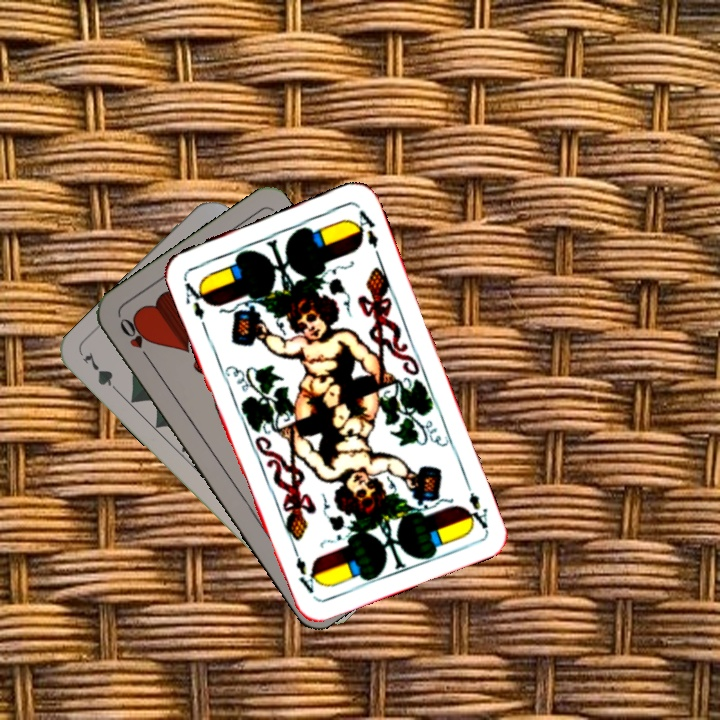EA: (460, 475, 491, 532), (179, 272, 211, 323)
G7: (78, 348, 125, 399)
HO: (115, 314, 154, 365)
